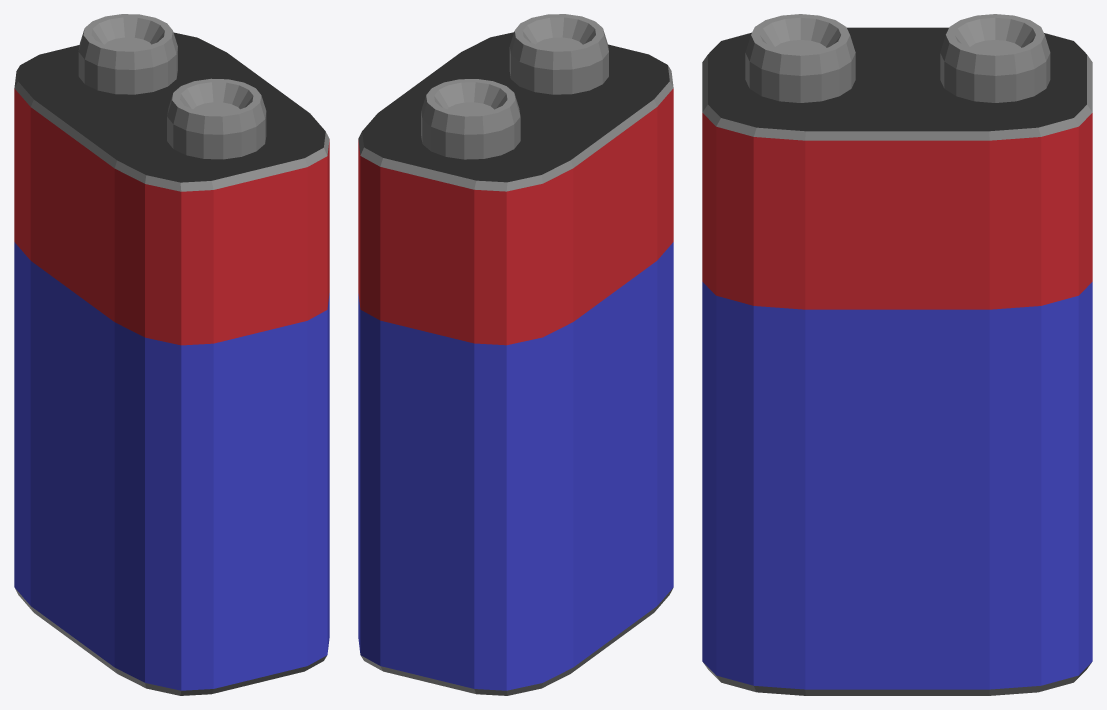
Rendered from battery.fbx.
3 views of the same model, side by side, from view 1: azimuth 30°, elevation 25°; view 2: azimuth 150°, elevation 25°; view 3: azimuth 270°, elevation 25° (orthographic). The views are drawn at different scales.
Parts seen in each view (by area): view 1: Cube, Cylinder, Cylinder.001; view 2: Cube, Cylinder.001, Cylinder; view 3: Cube, Cylinder, Cylinder.001.
Part boxes in pixels (x1,y1,x2,y2): Cube: (14,32,329,695); Cylinder: (78,14,177,94); Cylinder.001: (167,78,266,159); Cube: (358,32,673,695); Cylinder.001: (509,14,608,94); Cylinder: (421,79,520,159); Cube: (702,27,1092,695); Cylinder: (940,14,1050,102); Cylinder.001: (745,14,855,102).
Bounding box in the file's own units: 252 × 163 × 435.
